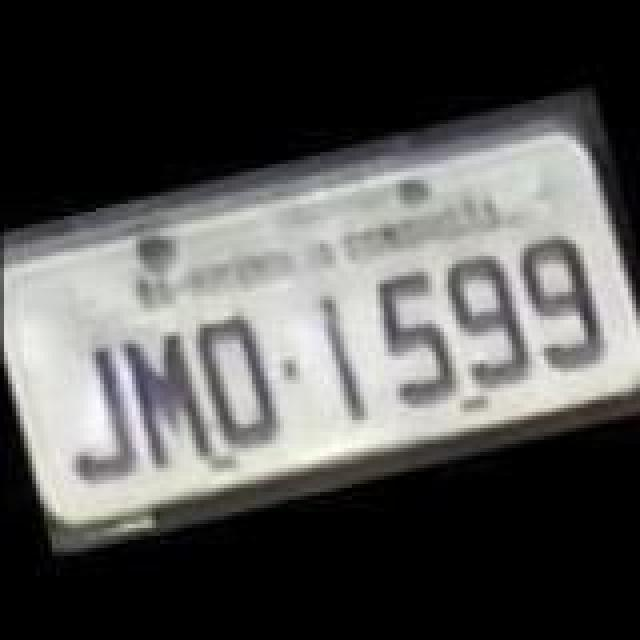1: (302, 282, 374, 430)
5: (362, 266, 466, 418)
9: (510, 222, 614, 378), (432, 248, 532, 396)
J: (46, 336, 146, 488)
M: (120, 324, 224, 472)
O: (190, 308, 282, 456)
